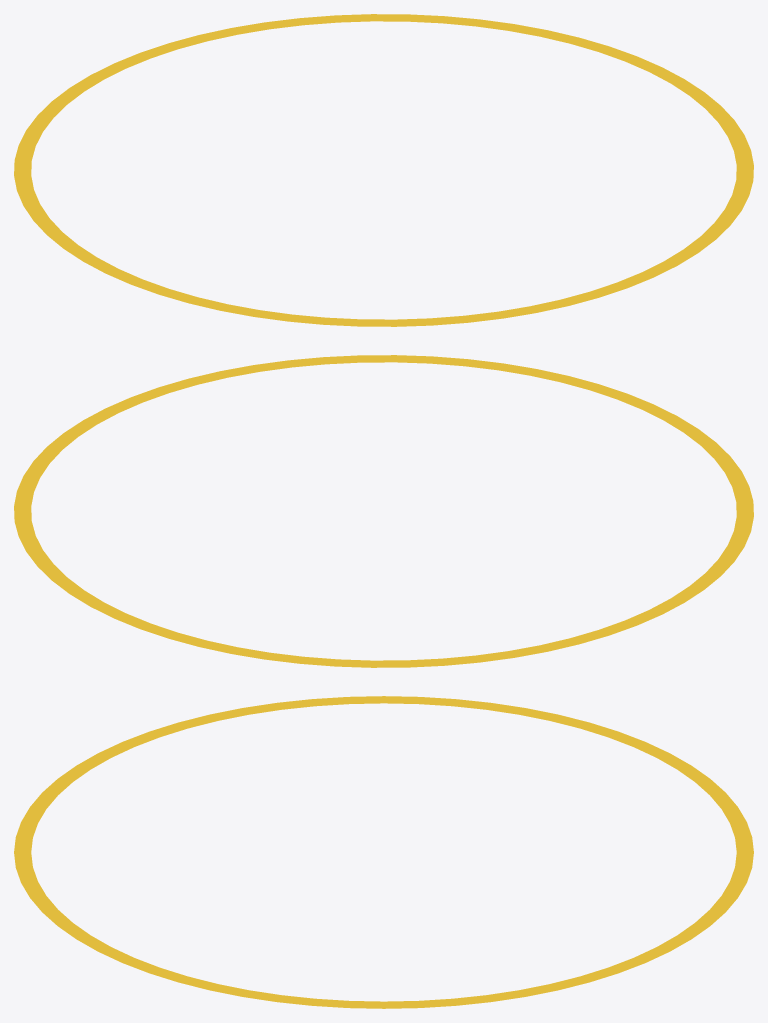
File: CircleRing.obj
3 views of the same model, one above another, from view 1: azimuth 30°, elevation 25°; view 2: azimuth 150°, elevation 25°; view 3: azimuth 270°, elevation 25° (orthographic).
Parts seen in each view (by area): view 1: CircleRing; view 2: CircleRing; view 3: CircleRing.
Boxes of the visible parts, x1=… form: CircleRing: x1=14, y1=14, x2=753, y2=326; CircleRing: x1=14, y1=355, x2=753, y2=667; CircleRing: x1=14, y1=696, x2=753, y2=1008.
Bounding box in the file's own units: 6.86 × 0 × 6.86.
Materials: 1 (1 with a texture image).
